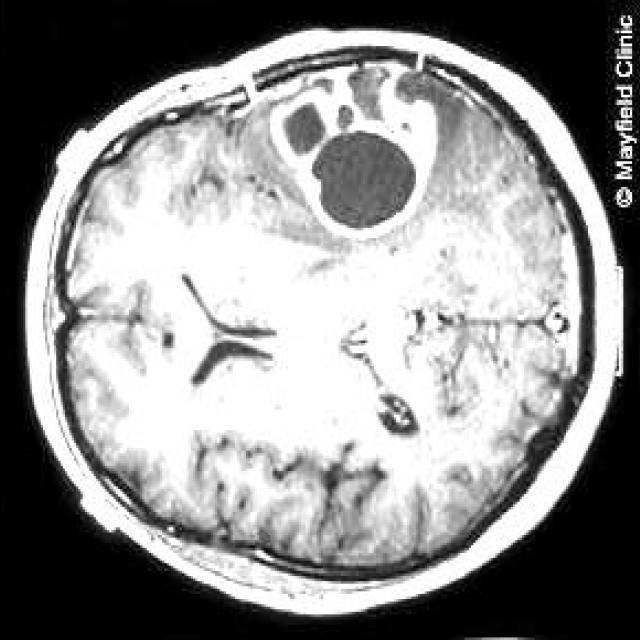tumor: (260, 72, 430, 238)
